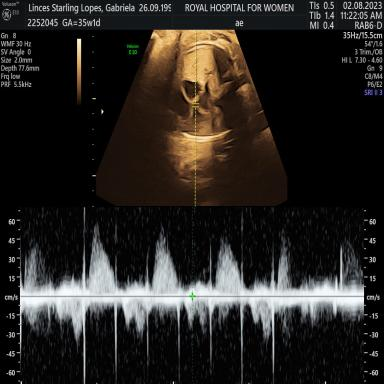Ultrasound-Waves: (28, 208, 361, 384)
